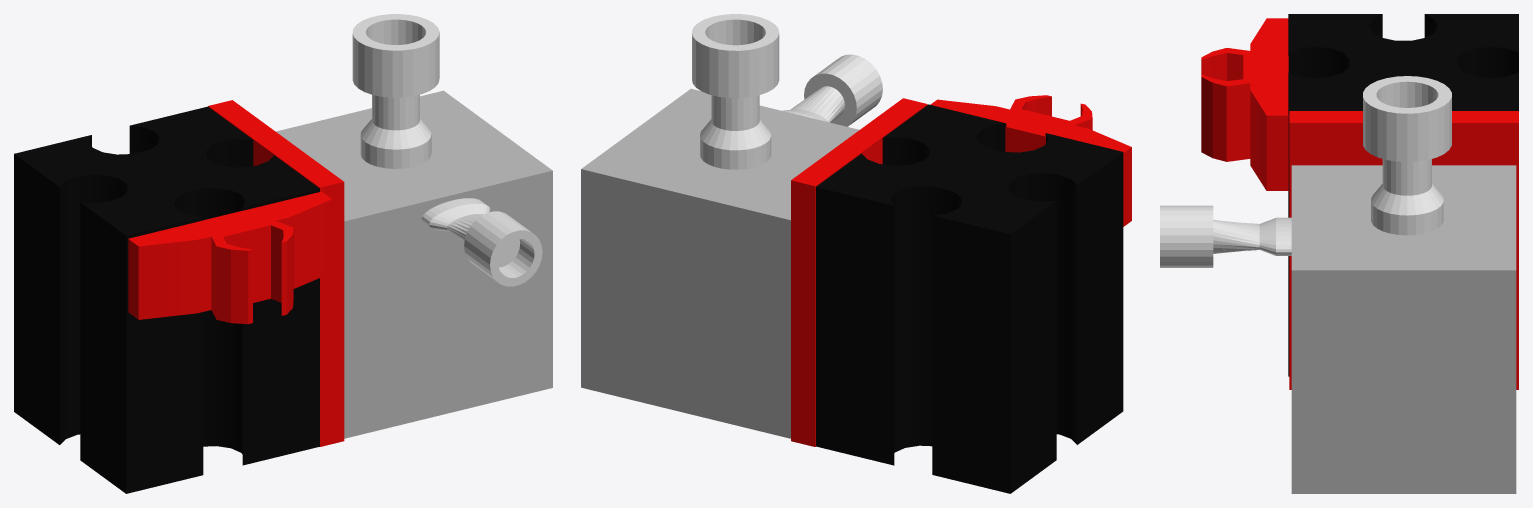
Rendered from Problem6_PnuematicArm1.FBX.
The picture shows the model from 3 angles, left to right: view 1: azimuth 30°, elevation 25°; view 2: azimuth 150°, elevation 25°; view 3: azimuth 270°, elevation 25°; orthographic projection. The views are drawn at different scales.
Visible parts, largest first — view 1: PnuematicArms_1, Box111, Box113, Cylinder038, Box112, Cylinder039; view 2: PnuematicArms_1, Box111, Cylinder038, Box112, Box113, Cylinder039; view 3: Box111, PnuematicArms_1, Box113, Cylinder038, Box112, Cylinder039.
Boxes of the visible parts, x1,y1,x2,y2 form: PnuematicArms_1: [14, 106, 319, 493]; Box111: [276, 90, 552, 438]; Box113: [128, 191, 332, 324]; Cylinder038: [352, 14, 439, 168]; Box112: [208, 100, 344, 446]; Cylinder039: [421, 198, 542, 286]; PnuematicArms_1: [816, 104, 1123, 493]; Box111: [581, 88, 859, 438]; Cylinder038: [692, 14, 779, 169]; Box112: [791, 98, 927, 446]; Box113: [930, 95, 1131, 226]; Cylinder039: [782, 54, 882, 126]; Box111: [1291, 165, 1516, 493]; PnuematicArms_1: [1288, 14, 1518, 376]; Box113: [1201, 18, 1288, 190]; Cylinder038: [1363, 76, 1451, 235]; Box112: [1289, 111, 1518, 389]; Cylinder039: [1160, 205, 1291, 267].
Bounding box in the file's own units: 14.14 × 10.73 × 9.98.
